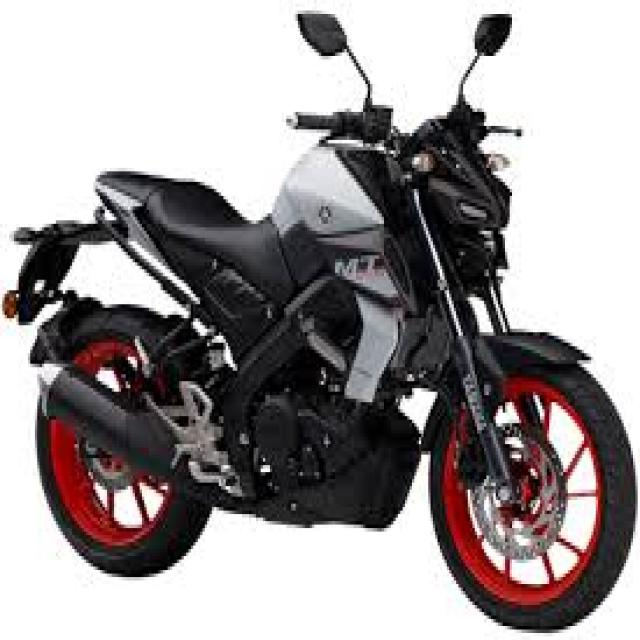MOTORCYCLE: (12, 62, 634, 628)
